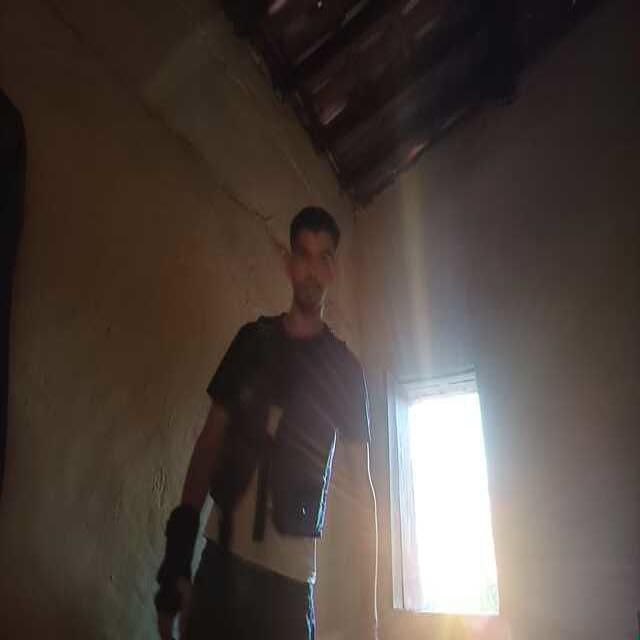colete: (220, 320, 345, 551)
pessoa: (157, 200, 377, 640)
